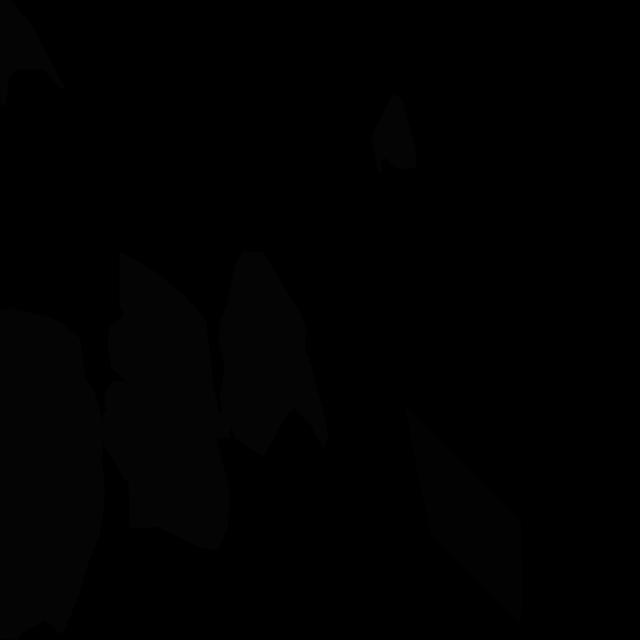cardboard: (404, 405, 524, 622)
soft_plastic: (107, 251, 231, 550), (0, 308, 105, 640), (218, 251, 328, 457), (0, 0, 66, 109), (101, 361, 146, 484), (372, 94, 416, 173)
